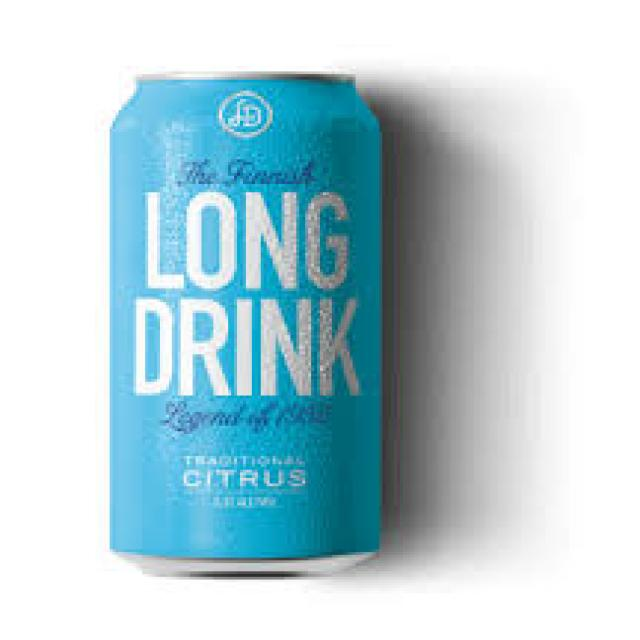Cans: (92, 58, 403, 588)
